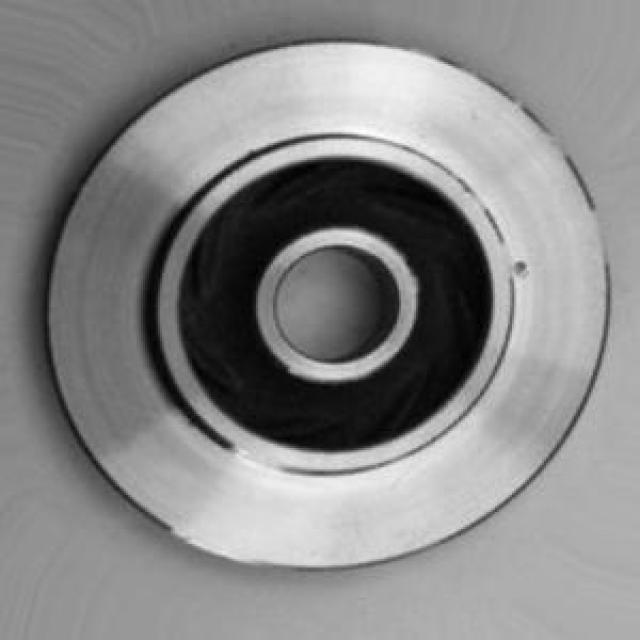Defect: (510, 254, 534, 291)
